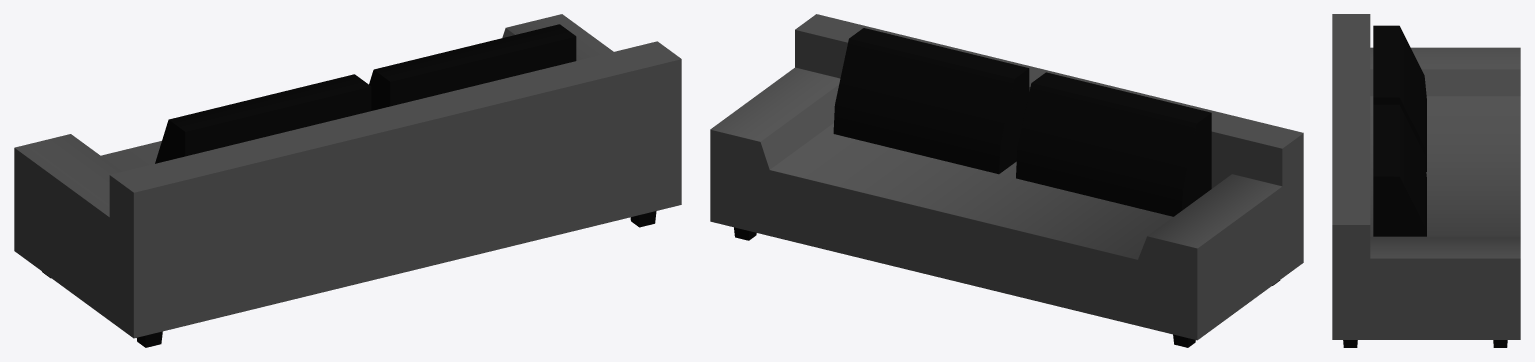
Rendered from Sillon2.fbx.
The picture shows the model from 3 angles, left to right: view 1: azimuth 30°, elevation 25°; view 2: azimuth 150°, elevation 25°; view 3: azimuth 270°, elevation 25°; orthographic projection. The views are drawn at different scales.
Visible parts, largest first — view 1: Sofa; view 2: Sofa; view 3: Sofa.
Boxes of the visible parts, left/top/right/bottom form: Sofa: left=14, top=14, right=681, bottom=347; Sofa: left=710, top=14, right=1303, bottom=347; Sofa: left=1332, top=14, right=1520, bottom=347.
Bounding box in the file's own units: 270 × 88.68 × 102.
1 material, 1 textured.
